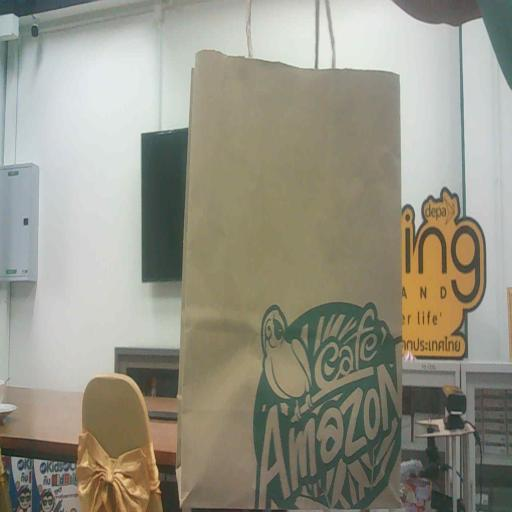bag: (173, 37, 406, 512)
